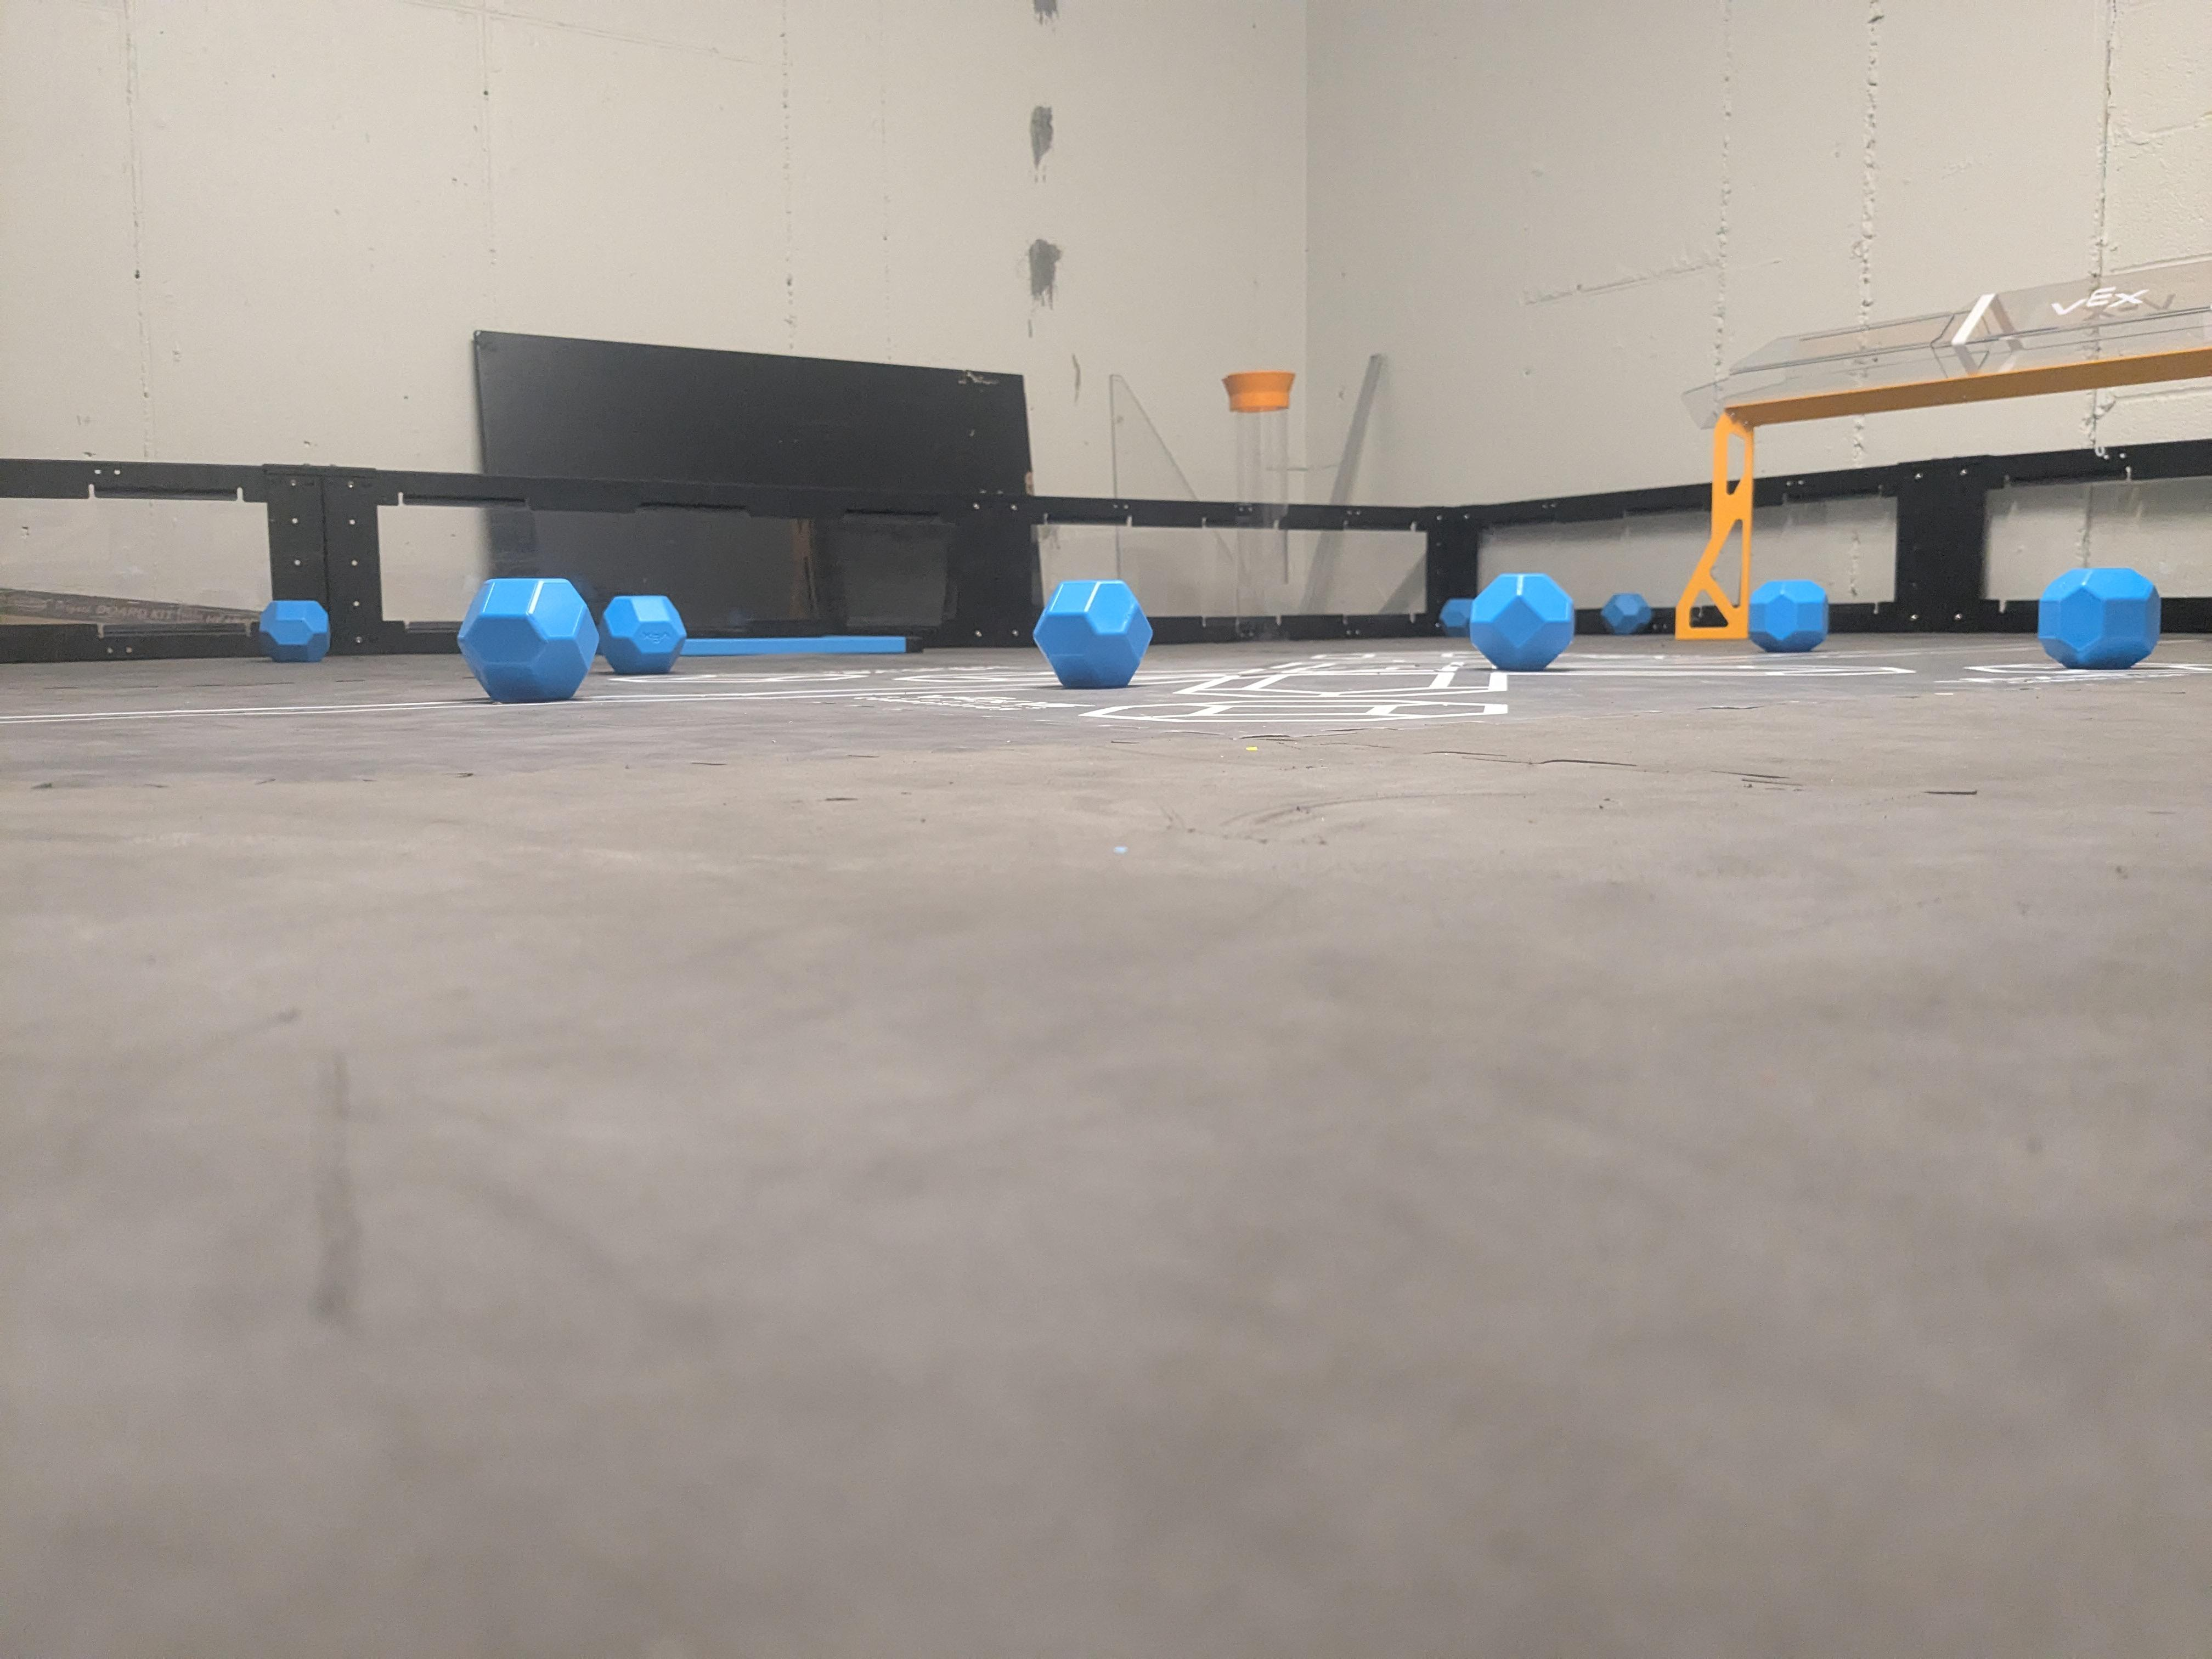Vex-Pieces-BLUE: (460, 586, 625, 699), (1036, 580, 1151, 687), (2040, 566, 2156, 669), (1444, 575, 1571, 669), (1756, 582, 1829, 660), (261, 601, 327, 660), (1601, 592, 1651, 634)
